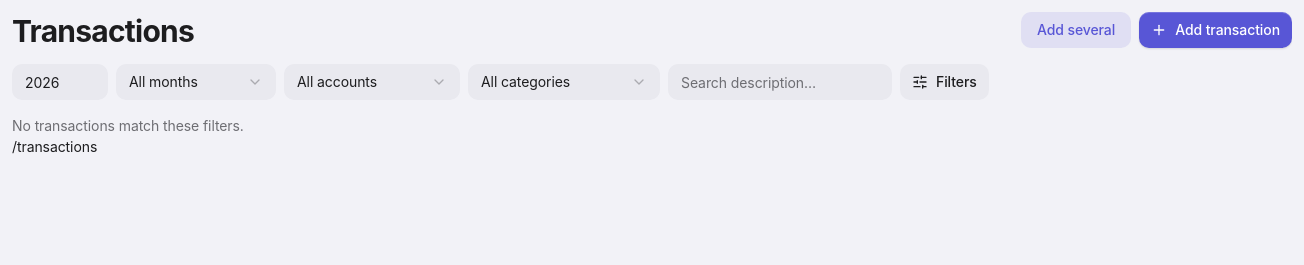
it: Transactions page › filters uncategorized transactions from the category menu
This screenshot has width=1304, height=265.
Click the dropdown named "Category".
click(564, 82)  # box [468, 64, 660, 100]
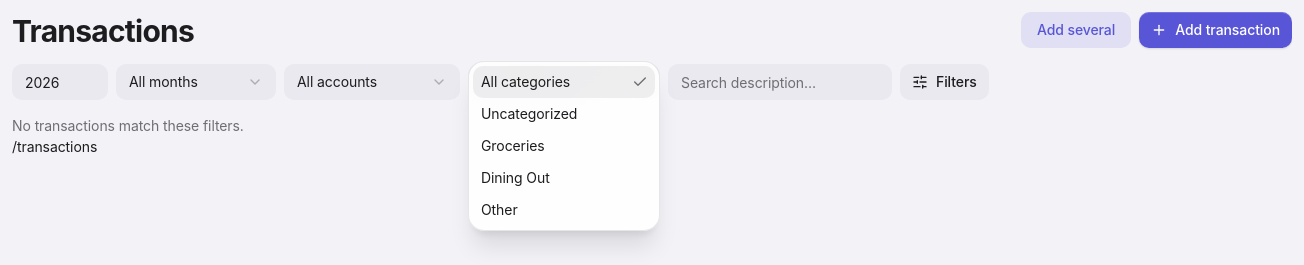
Click the option "Uncategorized".
click(529, 114)  # box [481, 105, 577, 122]
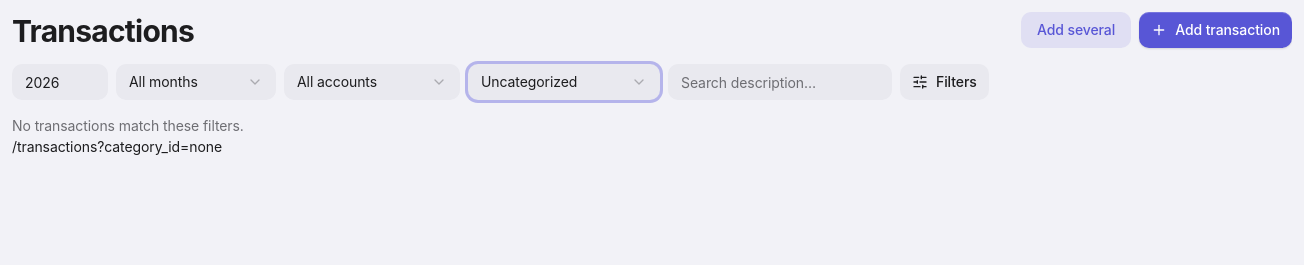
Now the text with test id "location" reads "/transactions?category_id=none", box [12, 138, 222, 155]
